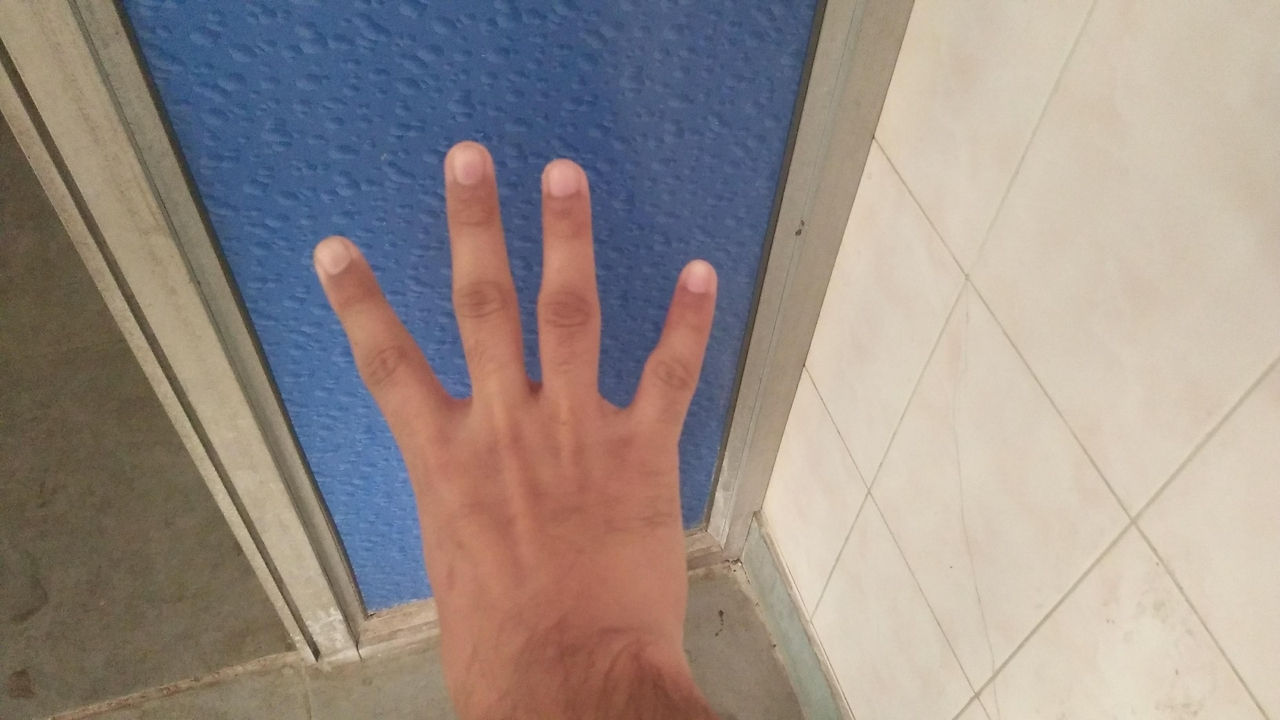fingertip: (292, 224, 374, 292), (528, 152, 596, 208), (434, 136, 500, 192), (660, 250, 724, 306)
